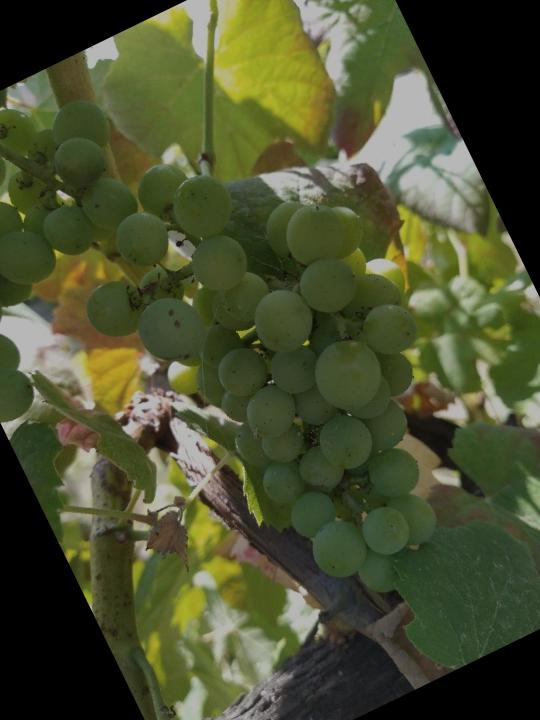grape: (39, 74, 540, 662)
